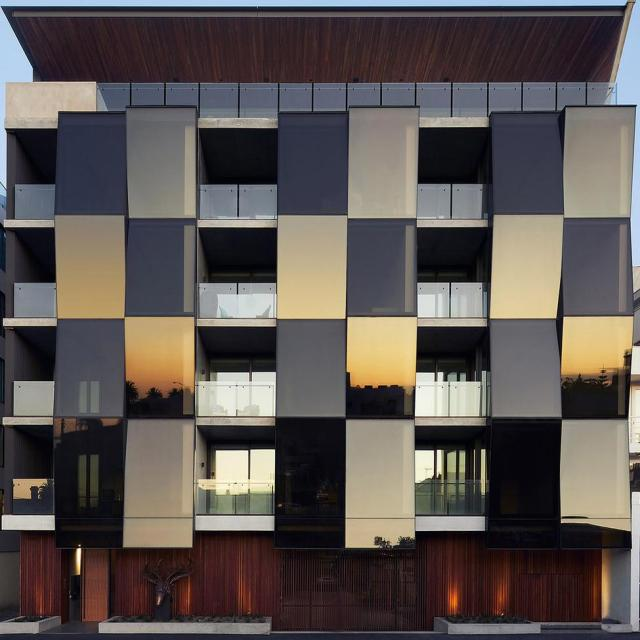railing: (96, 81, 618, 119), (196, 478, 273, 516), (412, 382, 485, 419), (198, 185, 278, 218), (198, 284, 278, 317), (195, 382, 274, 415), (416, 186, 486, 218), (416, 284, 486, 316), (414, 484, 484, 516), (14, 184, 55, 219), (14, 283, 55, 318), (14, 385, 54, 420), (13, 482, 55, 513)
window: (205, 441, 278, 479), (414, 448, 476, 483), (416, 353, 476, 381), (206, 358, 274, 381), (415, 266, 470, 284)
